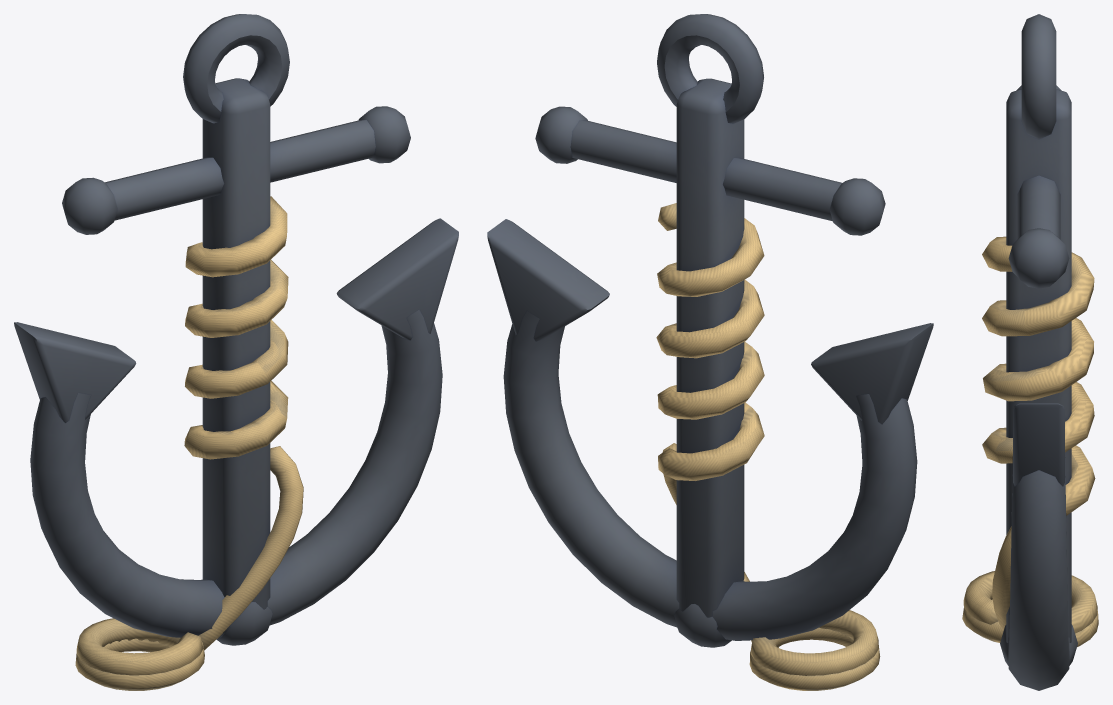
Rendered from CC_P08_Anchor.fbx.
3 renders of one model, left to right at view 1: azimuth 30°, elevation 25°; view 2: azimuth 150°, elevation 25°; view 3: azimuth 270°, elevation 25°, orthographic. The views are drawn at different scales.
Visible parts, largest first — view 1: Anchor, Rope, Ring; view 2: Anchor, Rope, Ring; view 3: Anchor, Rope, Ring.
Boxes of the visible parts, bbox=[...] form: Anchor: bbox=[14, 78, 458, 645]; Rope: bbox=[75, 196, 303, 690]; Ring: bbox=[183, 14, 289, 123]; Anchor: bbox=[487, 78, 933, 647]; Rope: bbox=[656, 203, 880, 690]; Ring: bbox=[657, 14, 763, 123]; Anchor: bbox=[1000, 85, 1077, 690]; Rope: bbox=[962, 236, 1098, 646]; Ring: bbox=[1021, 14, 1056, 139].
Bounding box in the file's own units: 1.19 × 1.69 × 0.3143.
